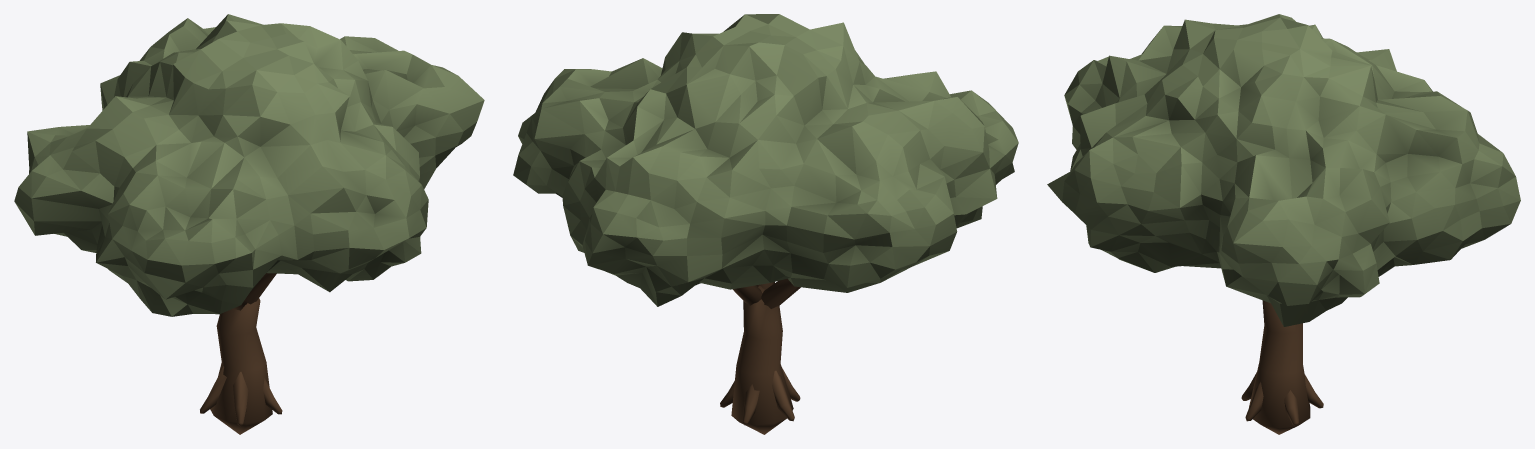
The model's file is oak.glb.
3 views of the same model, side by side, from view 1: azimuth 30°, elevation 25°; view 2: azimuth 150°, elevation 25°; view 3: azimuth 270°, elevation 25° (orthographic). The views are drawn at different scales.
Visible parts, largest first — view 1: Oak; view 2: Oak; view 3: Oak.
Part boxes in pixels (x1,y1,x2,y2): Oak: (14, 14, 484, 434); Oak: (513, 14, 1018, 434); Oak: (1047, 14, 1520, 434).
Size of the model in its own units: 7.52 by 6.73 by 7.04.
